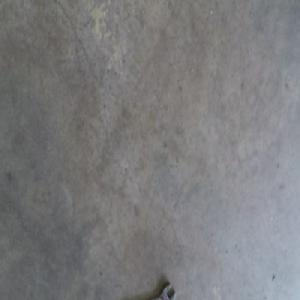Wrench: (157, 283, 175, 299)
